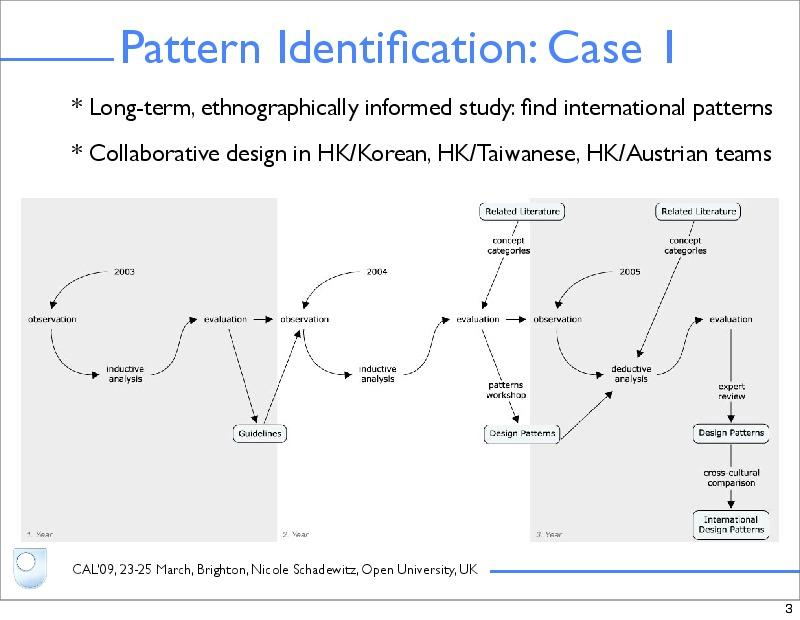paragraph: (82, 89, 780, 199)
title: (118, 19, 695, 87)
